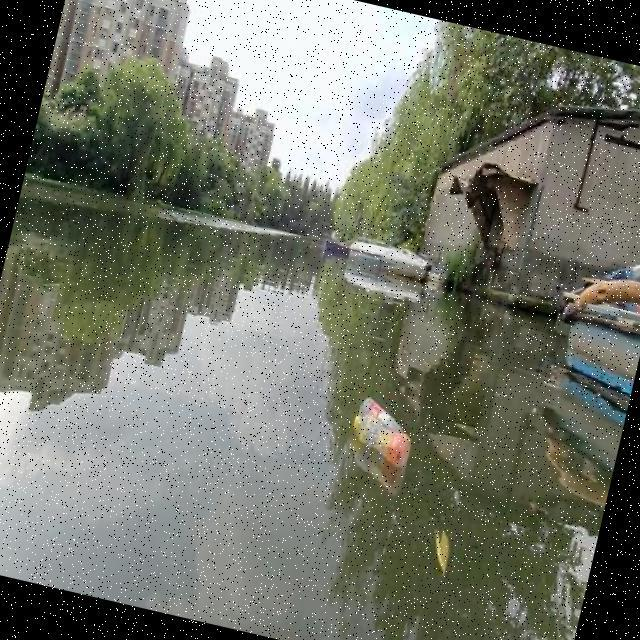Waste: (352, 393, 413, 466)
